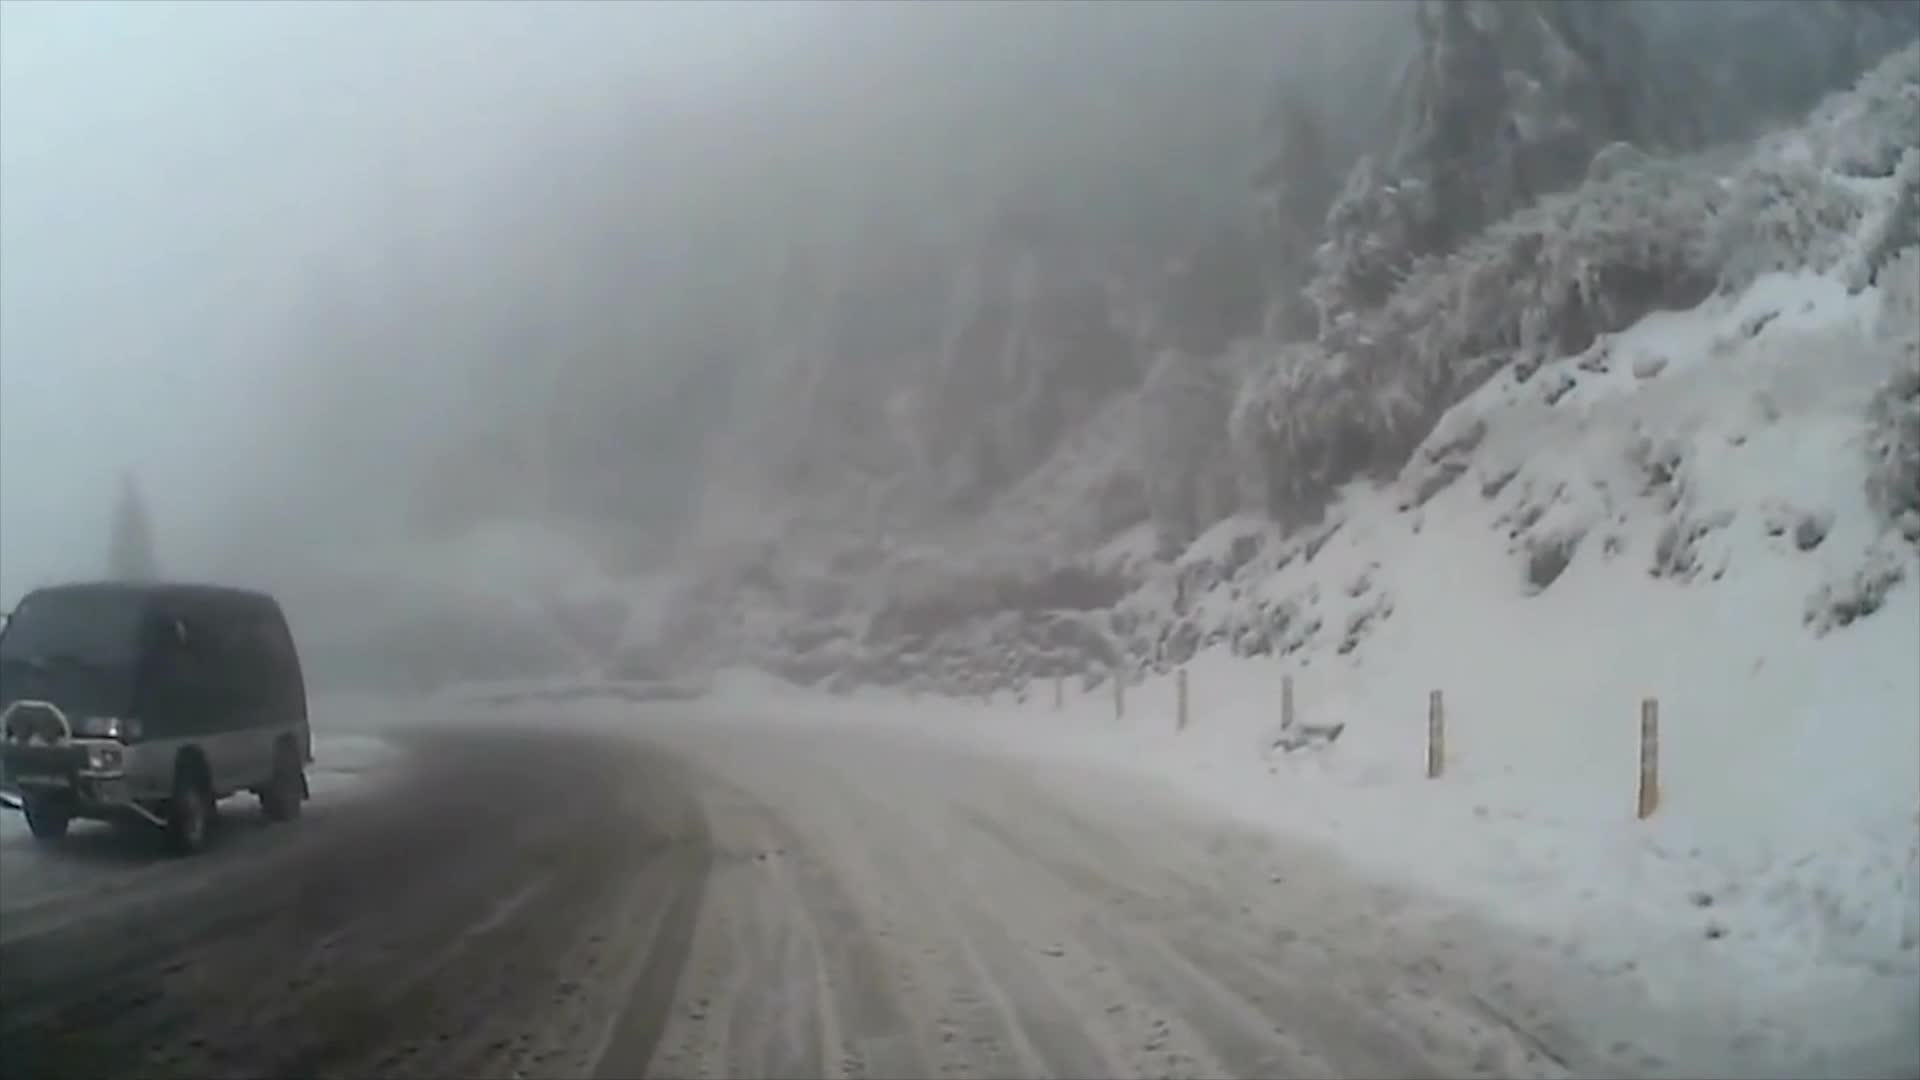vehicle: (0, 579, 316, 858)
